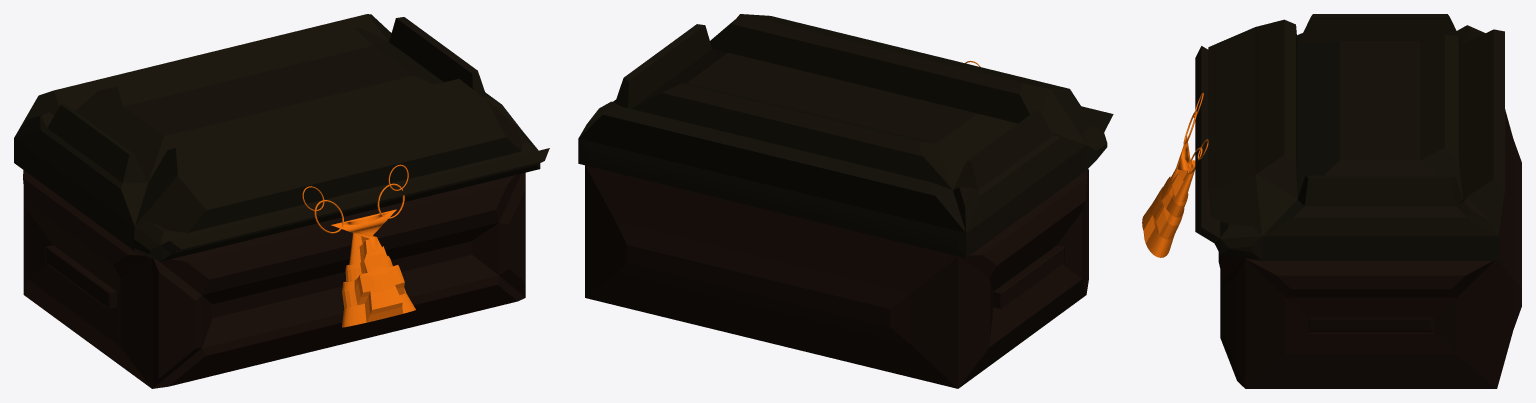
Rendered from for key.FBX.
3 views of the same model, side by side, from view 1: azimuth 30°, elevation 25°; view 2: azimuth 150°, elevation 25°; view 3: azimuth 270°, elevation 25° (orthographic). The views are drawn at different scales.
Parts seen in each view (by area): view 1: Cone001, Box001; view 2: Cone001, Box001; view 3: Cone001, Box001.
Boxes of the visible parts, <box> form: Cone001: <box>14,14,549,327</box>; Box001: <box>23,170,525,388</box>; Cone001: <box>578,14,1113,258</box>; Box001: <box>585,165,1088,388</box>; Cone001: <box>1142,14,1504,260</box>; Box001: <box>1218,109,1521,388</box>.
Size of the model in its own units: 42.27 by 21.35 by 34.73.
